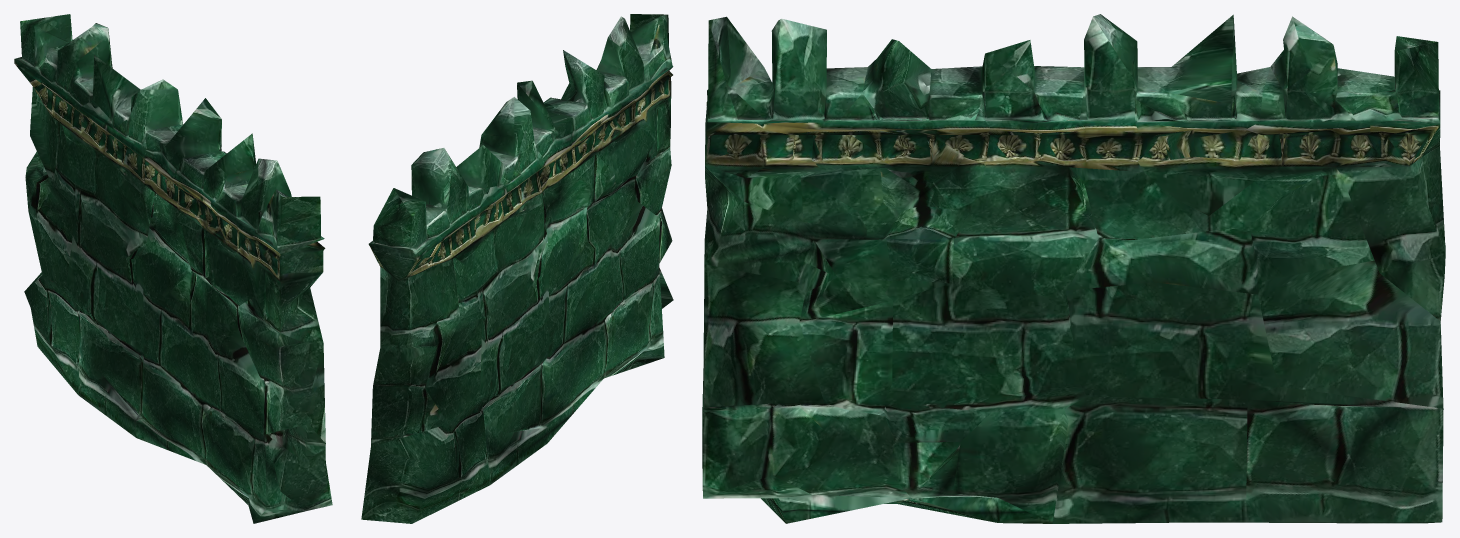
Rendered from castle_wall_diamond_green.glb.
3 views of the same model, side by side, from view 1: azimuth 30°, elevation 25°; view 2: azimuth 150°, elevation 25°; view 3: azimuth 270°, elevation 25° (orthographic). The views are drawn at different scales.
Visible parts, largest first — view 1: tripo_node_1447b0d2-74e3-4713-a10a-ee67cf32bda1; view 2: tripo_node_1447b0d2-74e3-4713-a10a-ee67cf32bda1; view 3: tripo_node_1447b0d2-74e3-4713-a10a-ee67cf32bda1.
Boxes of the visible parts, box(x1,y1,x2,y2) form: tripo_node_1447b0d2-74e3-4713-a10a-ee67cf32bda1: box(14, 14, 332, 523); tripo_node_1447b0d2-74e3-4713-a10a-ee67cf32bda1: box(361, 14, 673, 523); tripo_node_1447b0d2-74e3-4713-a10a-ee67cf32bda1: box(702, 14, 1445, 523).
Bounding box in the file's own units: 0.1325 × 0.7078 × 0.978.
1 material, 1 textured.
